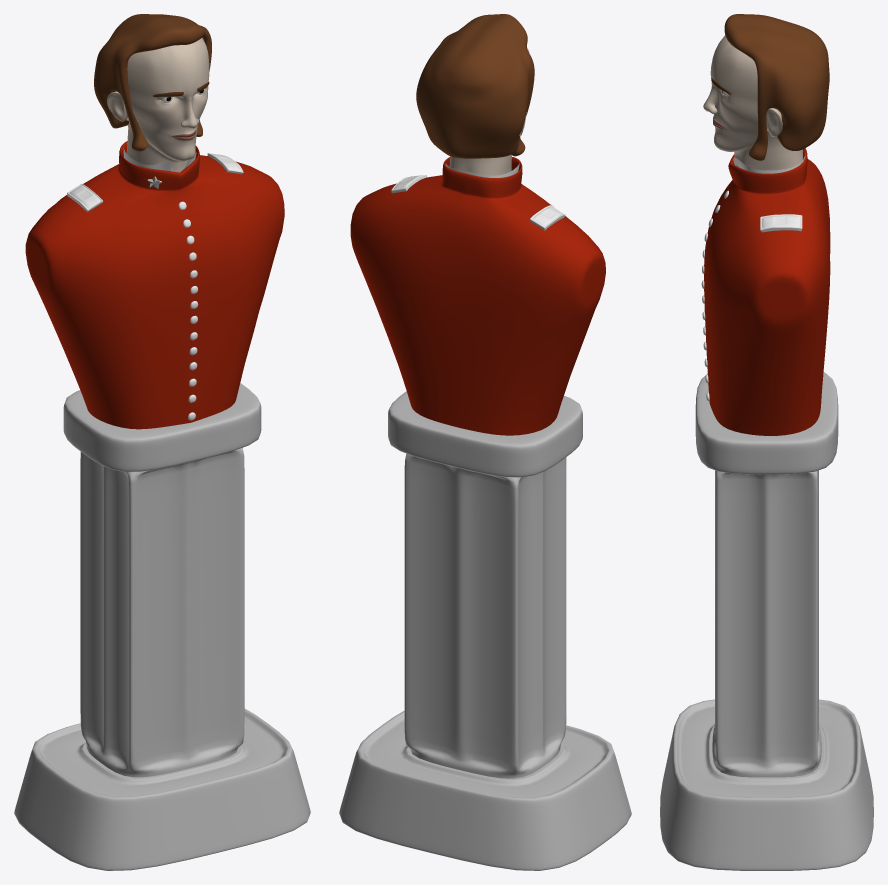
Rendered from Travis.gltf.
3 renders of one model, left to right at view 1: azimuth 30°, elevation 25°; view 2: azimuth 150°, elevation 25°; view 3: azimuth 270°, elevation 25°, orthographic.
Parts seen in each view (by area): view 1: Collumn.001, Plane.009, Head.002, Cube.013, Cube.042; view 2: Collumn.001, Plane.009, Cube.013, Head.002, Cube.042; view 3: Collumn.001, Plane.009, Cube.013, Head.002, Cube.042.
Boxes of the visible parts, x1=… form: Collumn.001: x1=14, y1=383, x2=310, y2=870; Plane.009: x1=25, y1=141, x2=284, y2=429; Head.002: x1=107, y1=38, x2=209, y2=172; Cube.013: x1=94, y1=14, x2=211, y2=151; Cube.042: x1=67, y1=153, x2=243, y2=212; Collumn.001: x1=339, y1=391, x2=631, y2=870; Plane.009: x1=350, y1=157, x2=605, y2=435; Cube.013: x1=416, y1=14, x2=534, y2=158; Head.002: x1=449, y1=47, x2=529, y2=175; Cube.042: x1=391, y1=175, x2=565, y2=230; Collumn.001: x1=660, y1=372, x2=873, y2=870; Plane.009: x1=704, y1=148, x2=830, y2=435; Cube.013: x1=724, y1=14, x2=829, y2=160; Head.002: x1=703, y1=35, x2=803, y2=170; Cube.042: x1=760, y1=214, x2=802, y2=232.
Bounding box in the file's own units: 3.86 × 12.29 × 3.
